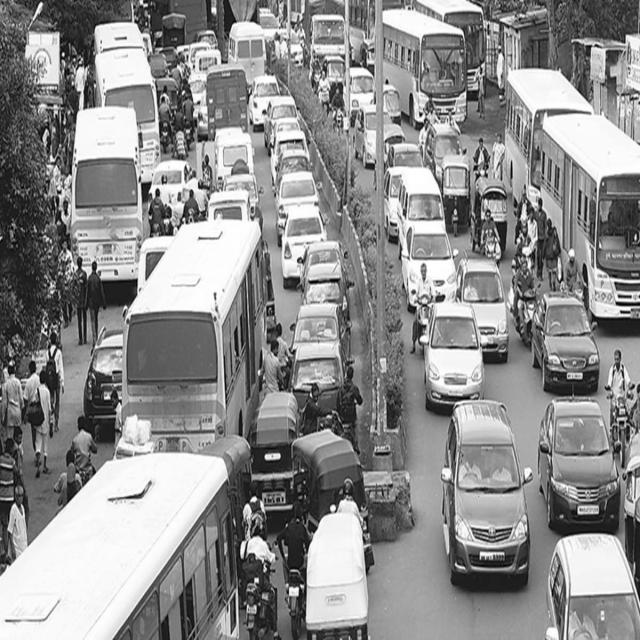auto: (306, 512, 369, 640), (293, 429, 367, 530), (251, 391, 299, 512), (476, 177, 508, 252), (442, 153, 471, 228), (265, 452, 281, 462)
bike: (245, 578, 271, 640), (286, 569, 306, 640)
bus: (0, 442, 244, 640), (123, 220, 268, 451), (541, 108, 640, 320), (69, 107, 143, 281), (505, 66, 595, 204), (383, 9, 468, 124), (95, 47, 160, 183), (417, 0, 492, 93), (207, 61, 248, 139)
car: (442, 400, 533, 585), (539, 397, 621, 532), (547, 534, 640, 640), (421, 302, 485, 409), (532, 292, 601, 390), (455, 256, 510, 361), (401, 221, 455, 308), (83, 325, 122, 434), (398, 167, 445, 252), (289, 342, 347, 410), (282, 203, 327, 286), (276, 169, 319, 244), (291, 303, 350, 357), (303, 262, 349, 320), (214, 127, 254, 187), (300, 240, 348, 288), (149, 158, 191, 207), (270, 128, 307, 183), (174, 129, 188, 158), (479, 325, 497, 334)
person: (337, 366, 363, 453), (442, 153, 471, 228), (277, 510, 311, 573), (607, 348, 632, 424), (70, 415, 97, 483), (34, 369, 51, 476), (85, 260, 106, 346), (46, 331, 64, 430), (2, 363, 23, 438), (7, 483, 27, 560), (261, 339, 283, 395), (515, 256, 535, 307), (519, 304, 524, 328)
